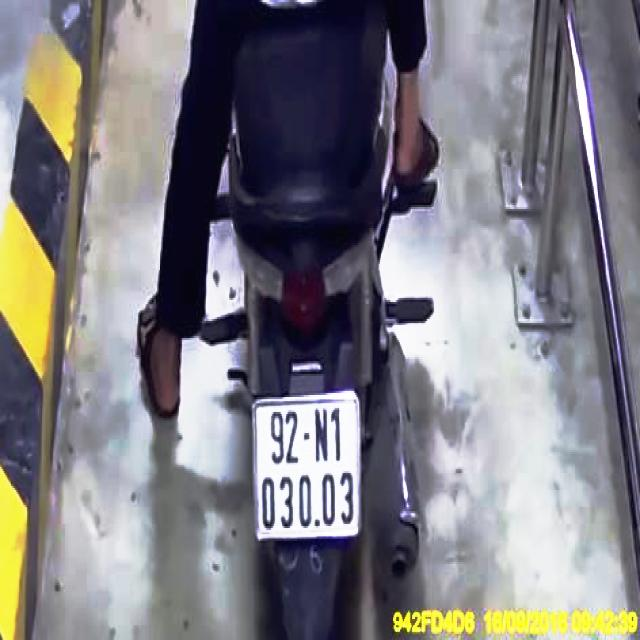license_plate: (254, 394, 361, 537)
